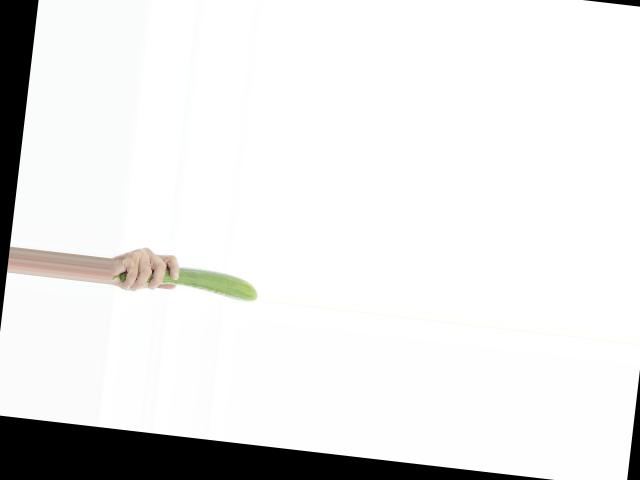cucumber: (112, 259, 261, 303)
